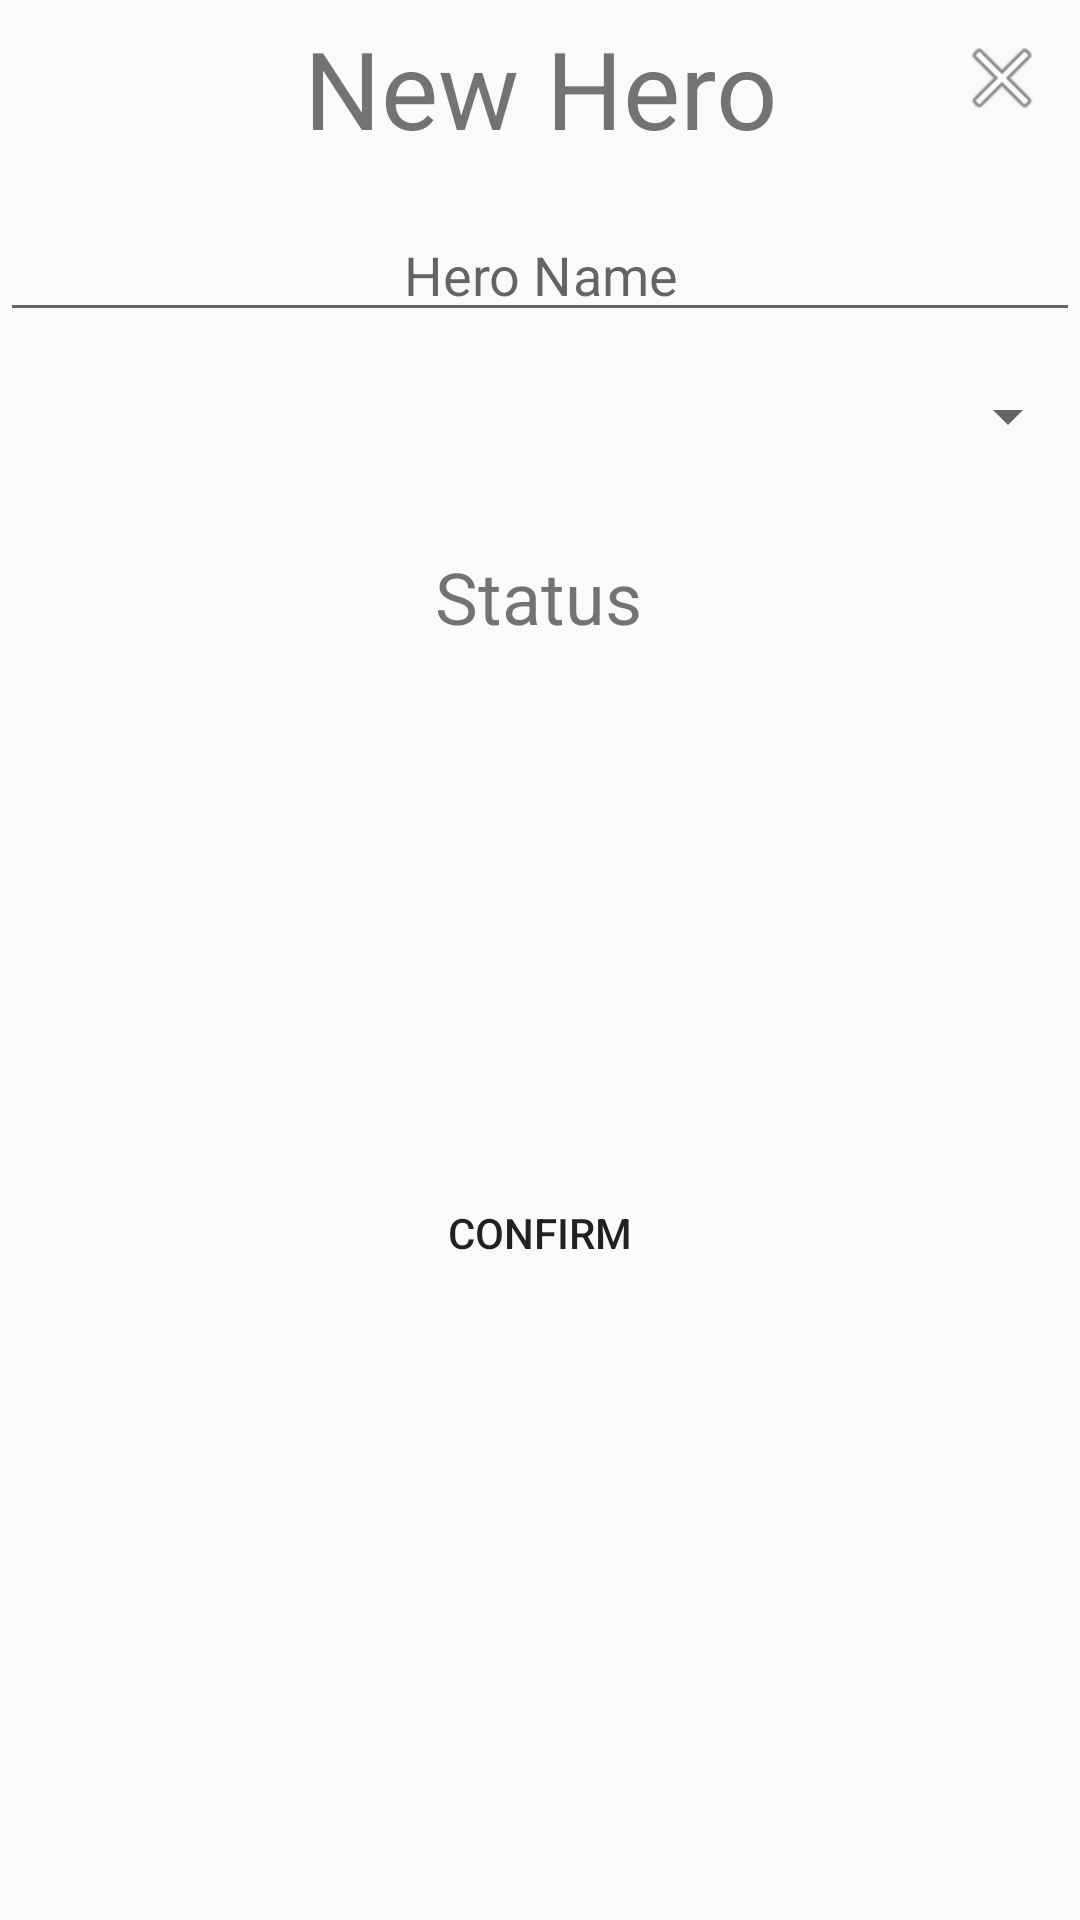

Where icons sit on this 1080*1920 app screen, as box=[x1, y1, x2, y2]:
Button to close current screen: box=[972, 48, 1032, 108]
